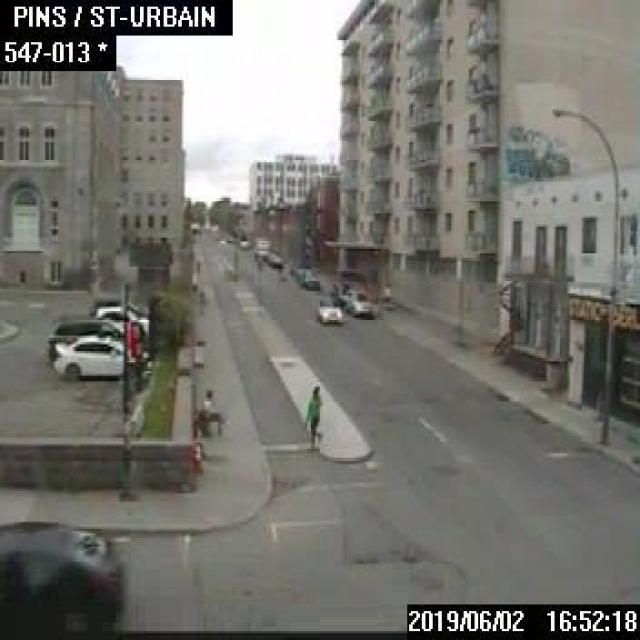pedestrian: (200, 386, 222, 436), (305, 384, 322, 444)
vehicle: (0, 517, 125, 633), (51, 333, 148, 379), (47, 315, 123, 361), (93, 304, 148, 338), (329, 278, 376, 314), (89, 294, 147, 316), (314, 294, 342, 322), (294, 264, 318, 287), (265, 248, 282, 264), (252, 244, 267, 257), (237, 237, 249, 247), (224, 235, 231, 241)
